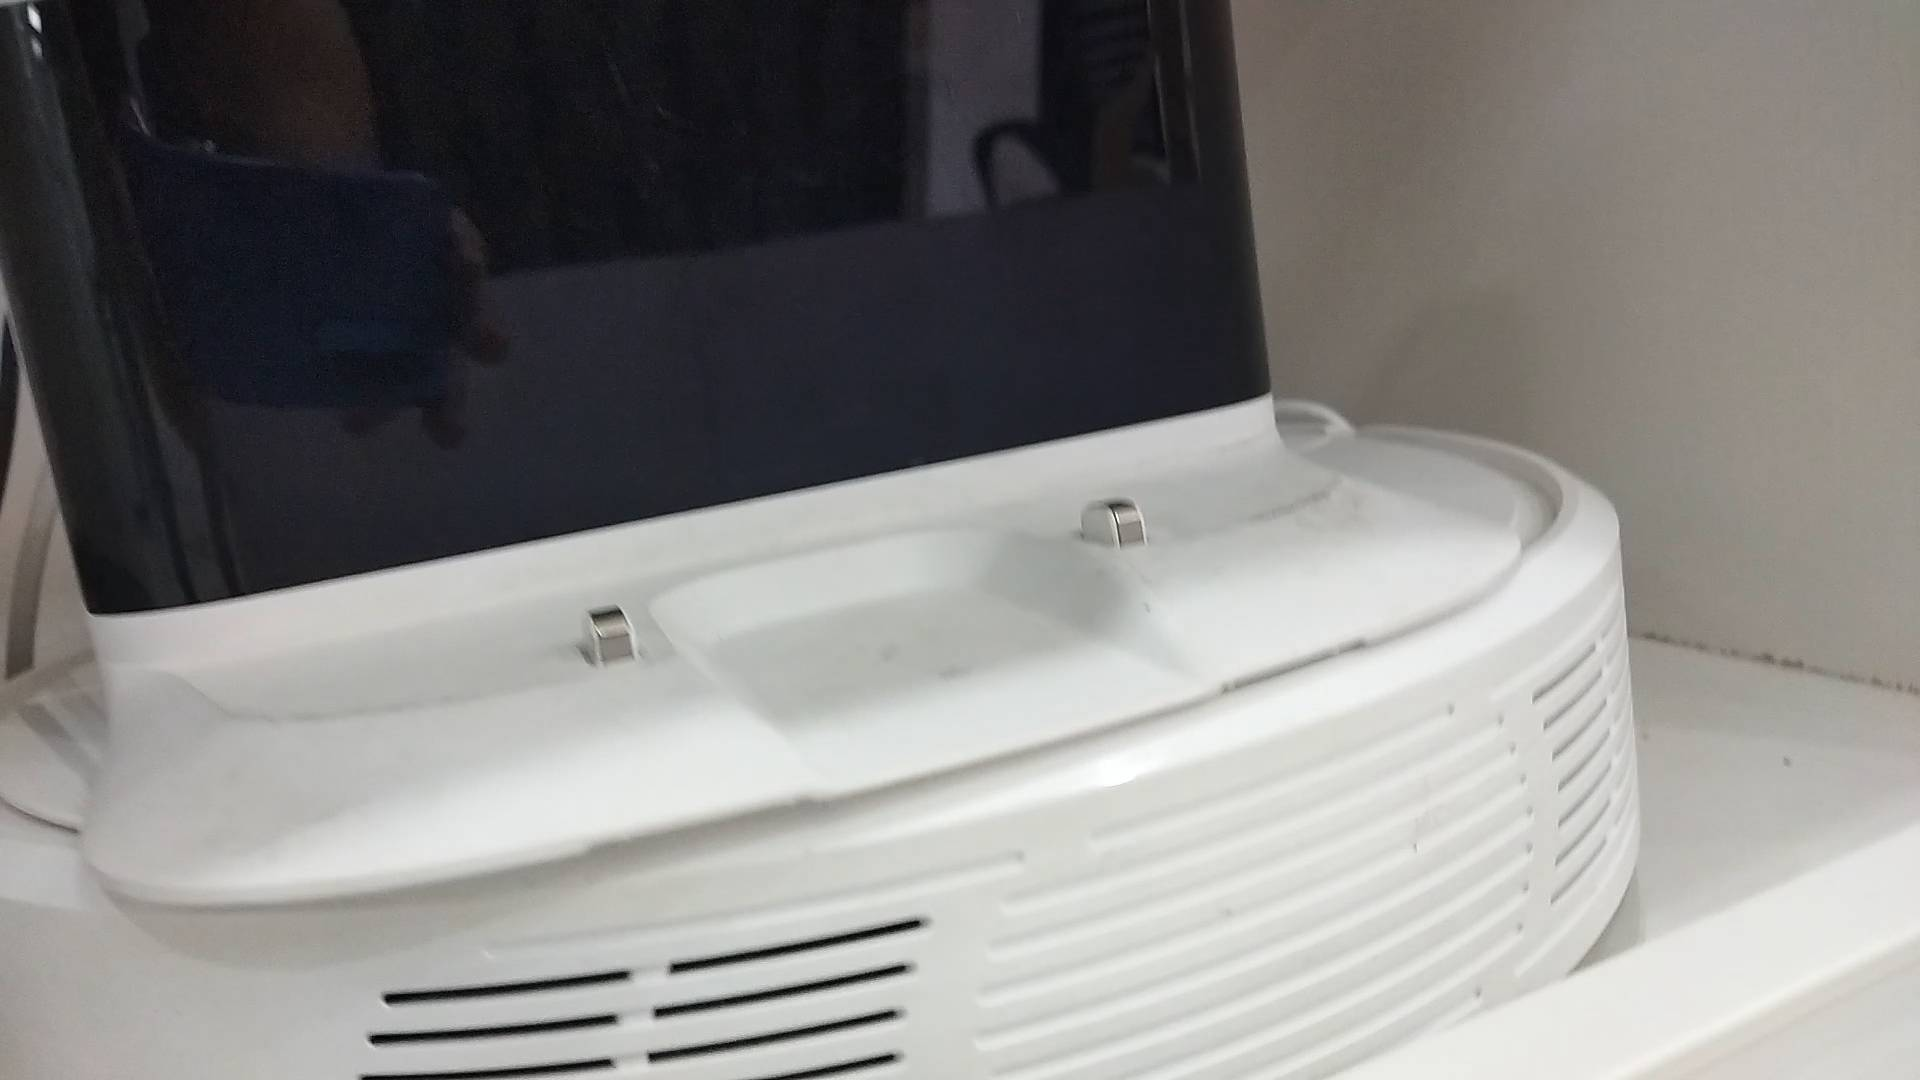recharge seat: (1, 1, 1524, 913)
